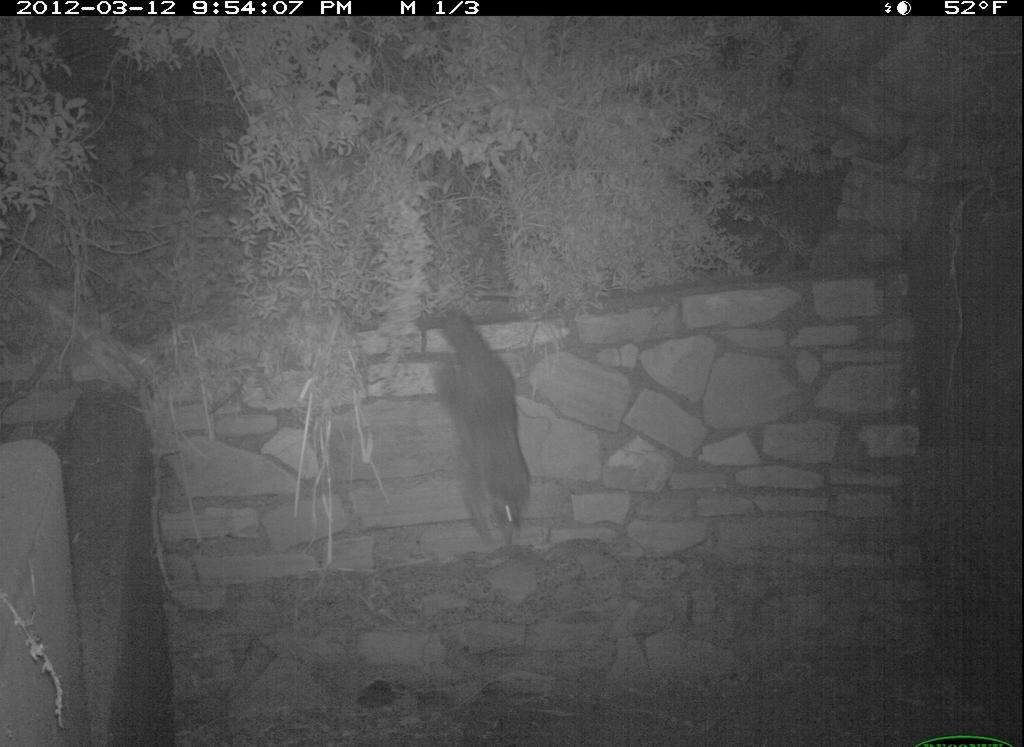raccoon: (423, 306, 541, 547)
